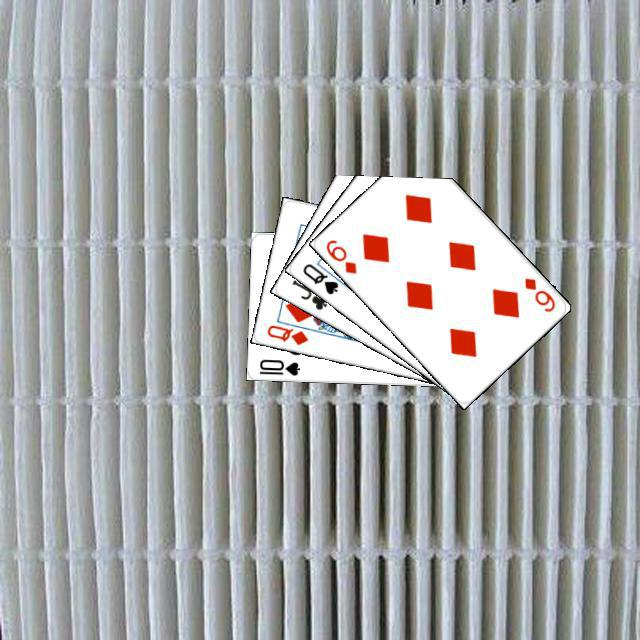10s: (254, 354, 302, 377)
6d: (519, 272, 557, 314), (321, 235, 358, 275)
Jc: (287, 275, 329, 312)
Qd: (262, 320, 310, 347)
Qs: (298, 258, 340, 296)
